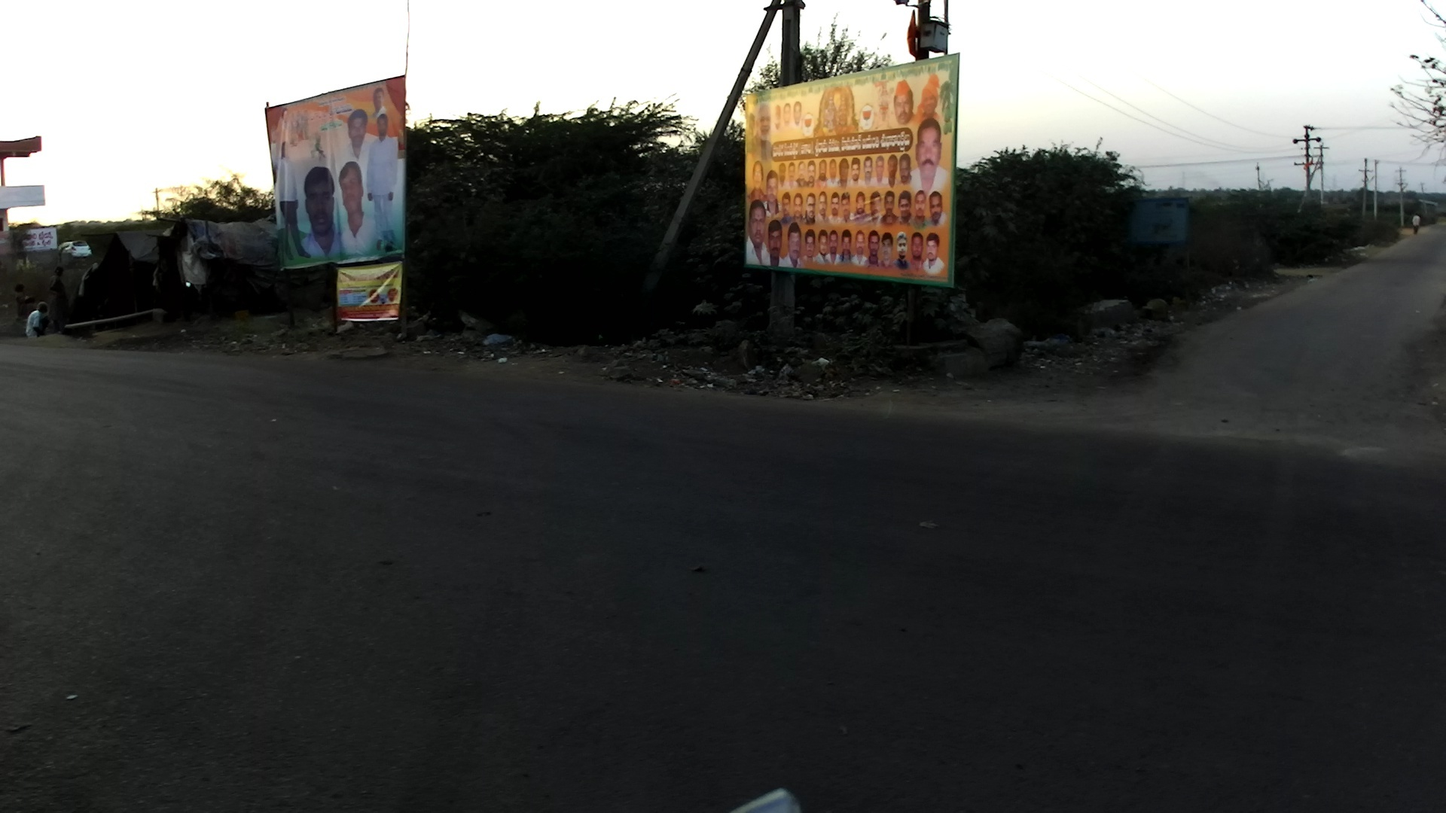car: (56, 240, 92, 260)
person: (49, 266, 69, 336), (24, 302, 50, 338), (14, 282, 29, 319), (1411, 212, 1421, 235)
